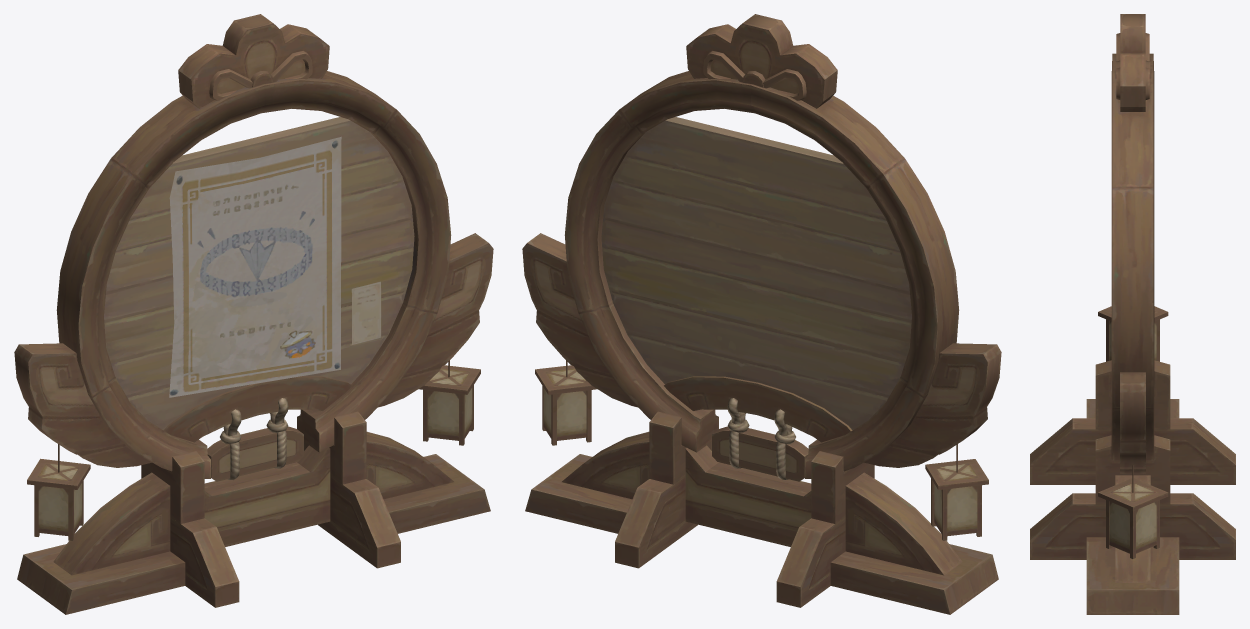
Rendered from Homeworld_Exterior_Common_Prop_Thing_TimerStart_01_Lod0.fbx.
3 renders of one model, left to right at view 1: azimuth 30°, elevation 25°; view 2: azimuth 150°, elevation 25°; view 3: azimuth 270°, elevation 25°, orthographic. The views are drawn at different scales.
Visible parts, largest first — view 1: Homeworld_Exterior_Common_Prop_Thing_TimerStart_01_Lod0; view 2: Homeworld_Exterior_Common_Prop_Thing_TimerStart_01_Lod0; view 3: Homeworld_Exterior_Common_Prop_Thing_TimerStart_01_Lod0.
Boxes of the visible parts, x1,y1,x2,y2 form: Homeworld_Exterior_Common_Prop_Thing_TimerStart_01_Lod0: (14,14,493,614); Homeworld_Exterior_Common_Prop_Thing_TimerStart_01_Lod0: (522,14,1001,614); Homeworld_Exterior_Common_Prop_Thing_TimerStart_01_Lod0: (1030,14,1235,614).
Bounding box in the file's own units: 1.72 × 1.85 × 0.694.
